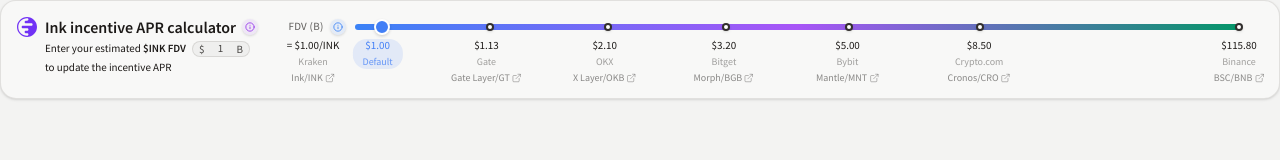
it: InkAprCalculator › FDV input › restores current FDV value when input is cleared on blur
Note: Clear the input and blur
Clear the field named "Estimated $INK FDV in billions" at (220, 49), box [204, 41, 236, 57]
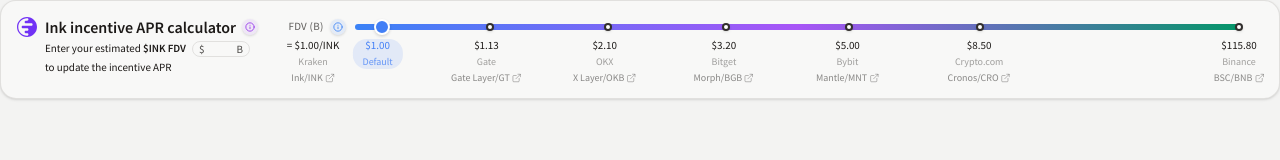
Leave the field named "Estimated $INK FDV in billions", box [204, 41, 236, 57]
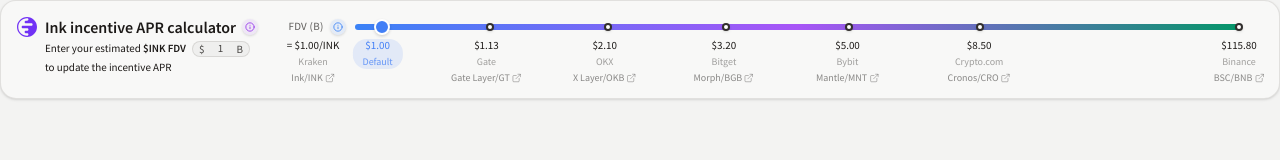
Now the field named "Estimated $INK FDV in billions" holds "1", box [204, 41, 236, 57]
